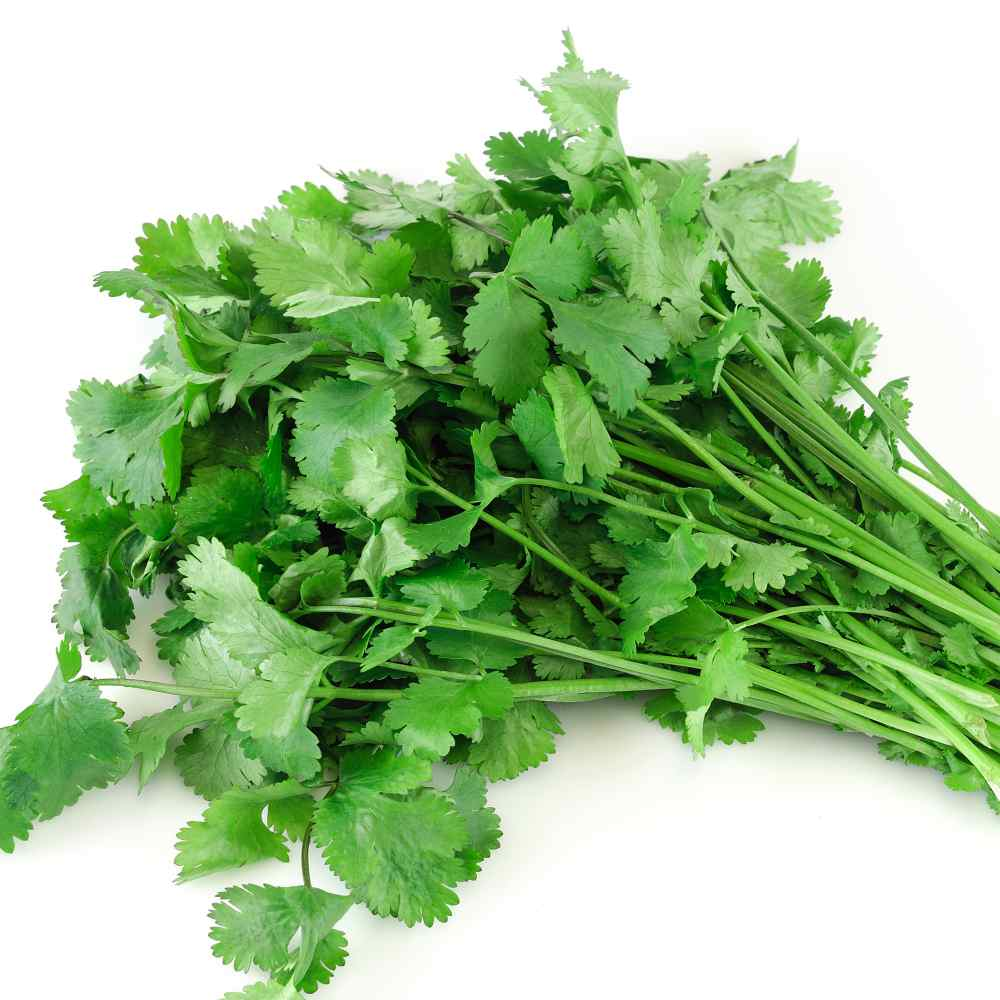Cilantro: (0, 21, 998, 1000)
